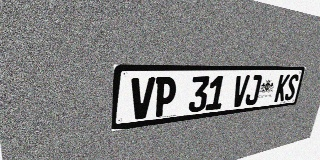1: (205, 76, 226, 111)
3: (188, 76, 210, 113)
J: (244, 75, 263, 106)
K: (274, 74, 290, 102)
P: (153, 77, 177, 117)
S: (284, 74, 299, 101)
V: (129, 77, 155, 120), (231, 75, 250, 108)
